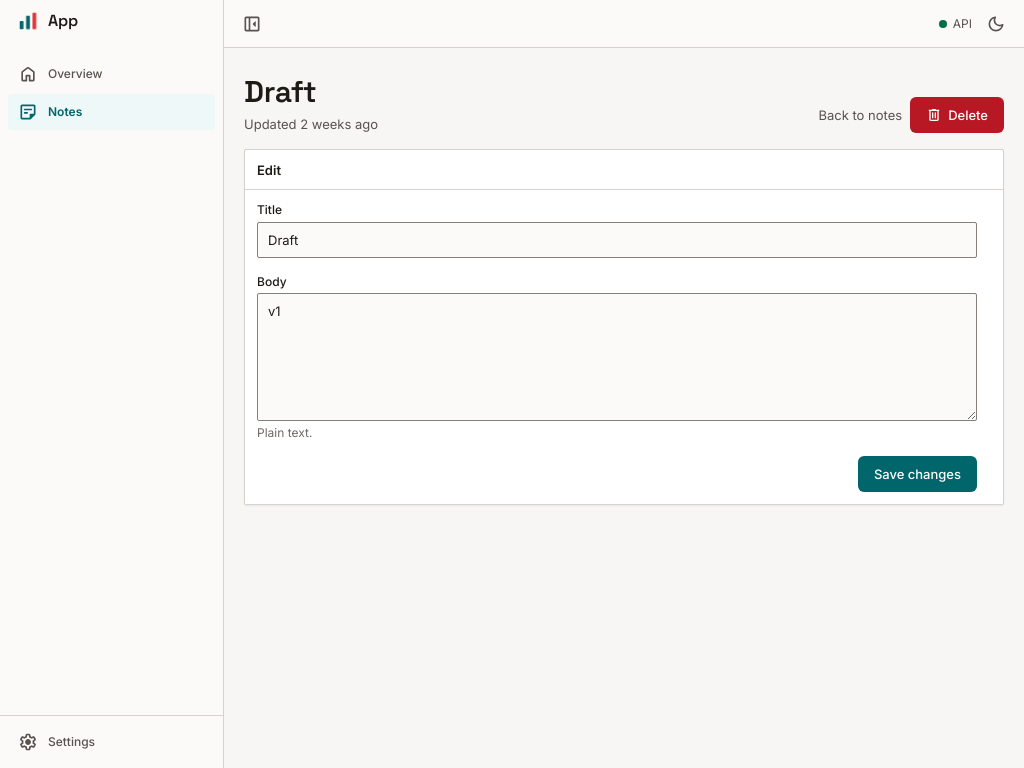
note page › edits a note
Step 1. Replace the text in the text box labelled "Body" with "v2" → (617, 357), box [257, 293, 977, 420]
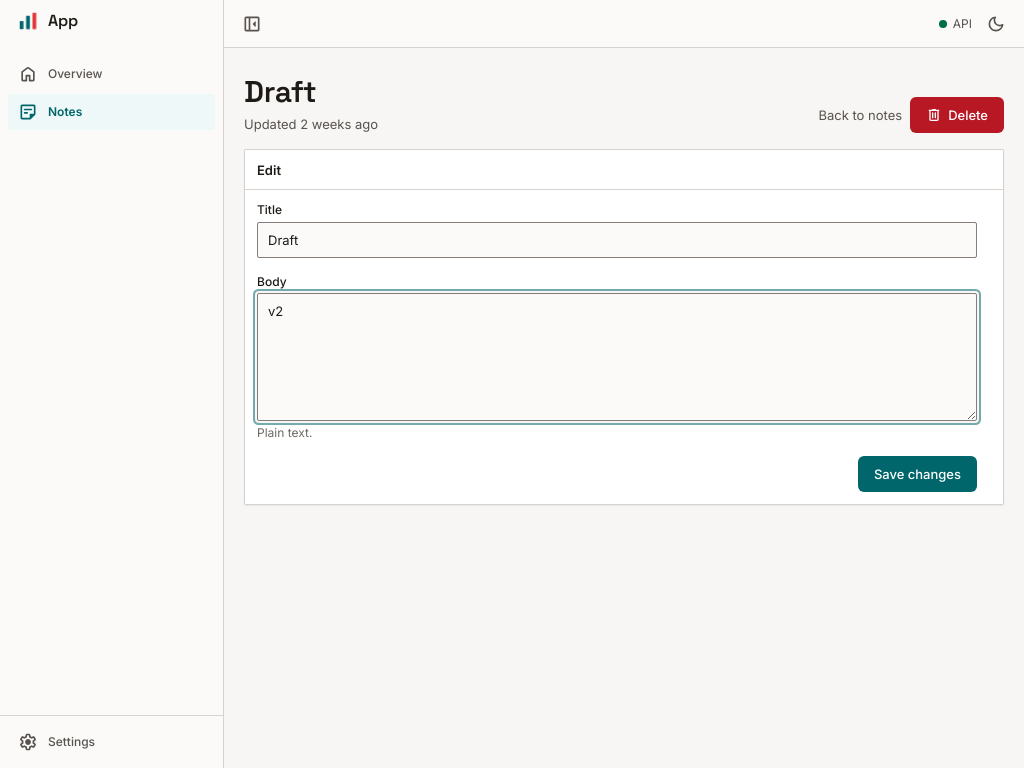
Step 2. Click the button "Save changes" → click(917, 474), box [858, 456, 977, 492]
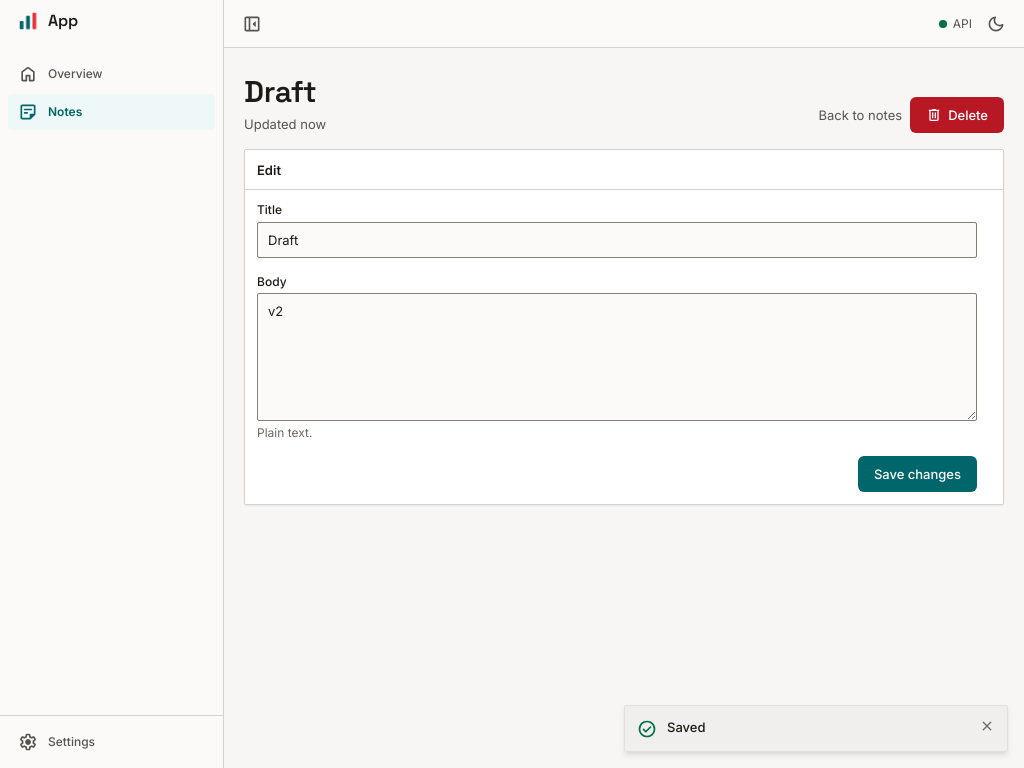
Result: the text "Saved" is shown at [667, 719, 706, 735]
